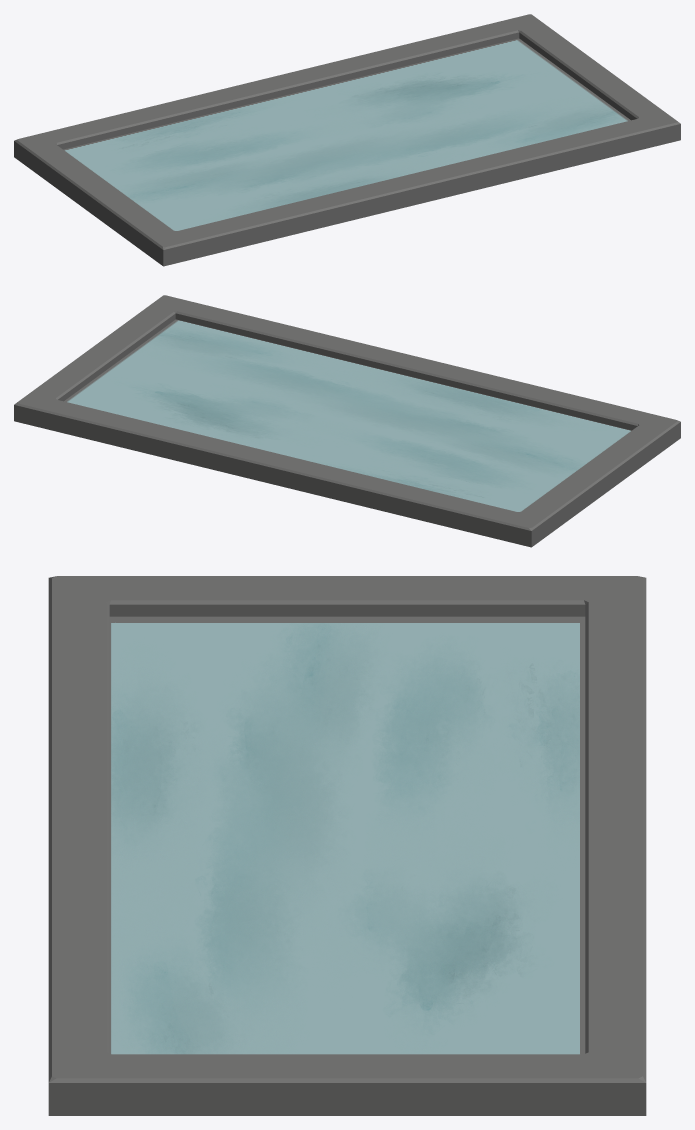
File: N06_Piso_Piscina_new.fbx
3 renders of one model, top to bottom at view 1: azimuth 30°, elevation 25°; view 2: azimuth 150°, elevation 25°; view 3: azimuth 270°, elevation 25°, orthographic. The views are drawn at different scales.
Parts seen in each view (by area): view 1: N06_Piso_Piscina; view 2: N06_Piso_Piscina; view 3: N06_Piso_Piscina.
Part boxes in pixels (x1,y1,x2,y2): N06_Piso_Piscina: [14, 14, 680, 266]; N06_Piso_Piscina: [14, 295, 680, 547]; N06_Piso_Piscina: [48, 576, 646, 1115].
Size of the model in its own units: 400 by 13.29 by 200.
1 material, 1 textured.
